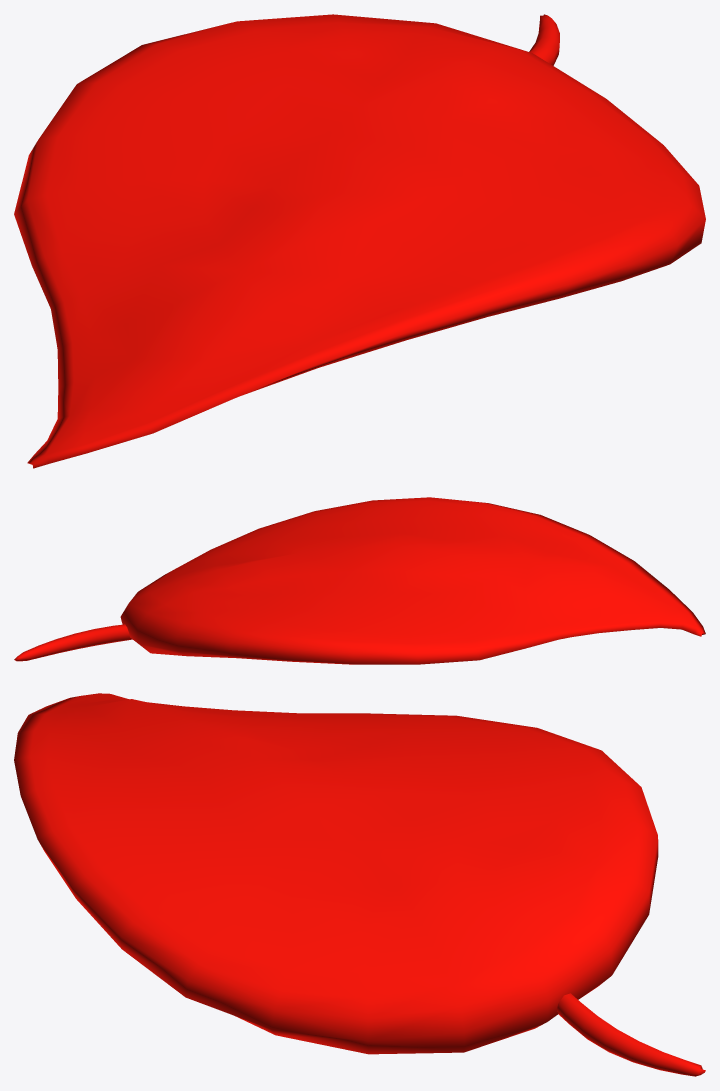
Rendered from Leaf_low.fbx.
The picture shows the model from 3 angles, top to bottom: view 1: azimuth 30°, elevation 25°; view 2: azimuth 150°, elevation 25°; view 3: azimuth 270°, elevation 25°; orthographic projection. The views are drawn at different scales.
Parts seen in each view (by area): view 1: Leaf_low, Stem_low; view 2: Leaf_low, Stem_low; view 3: Leaf_low, Stem_low.
Part boxes in pixels (x1,y1,x2,y2): Leaf_low: (14, 14, 705, 468); Stem_low: (529, 14, 559, 65); Leaf_low: (120, 497, 705, 664); Stem_low: (14, 624, 132, 661); Leaf_low: (14, 693, 658, 1054); Stem_low: (557, 993, 705, 1076).
Size of the model in its own units: 5.32 by 4.17 by 0.8803.
